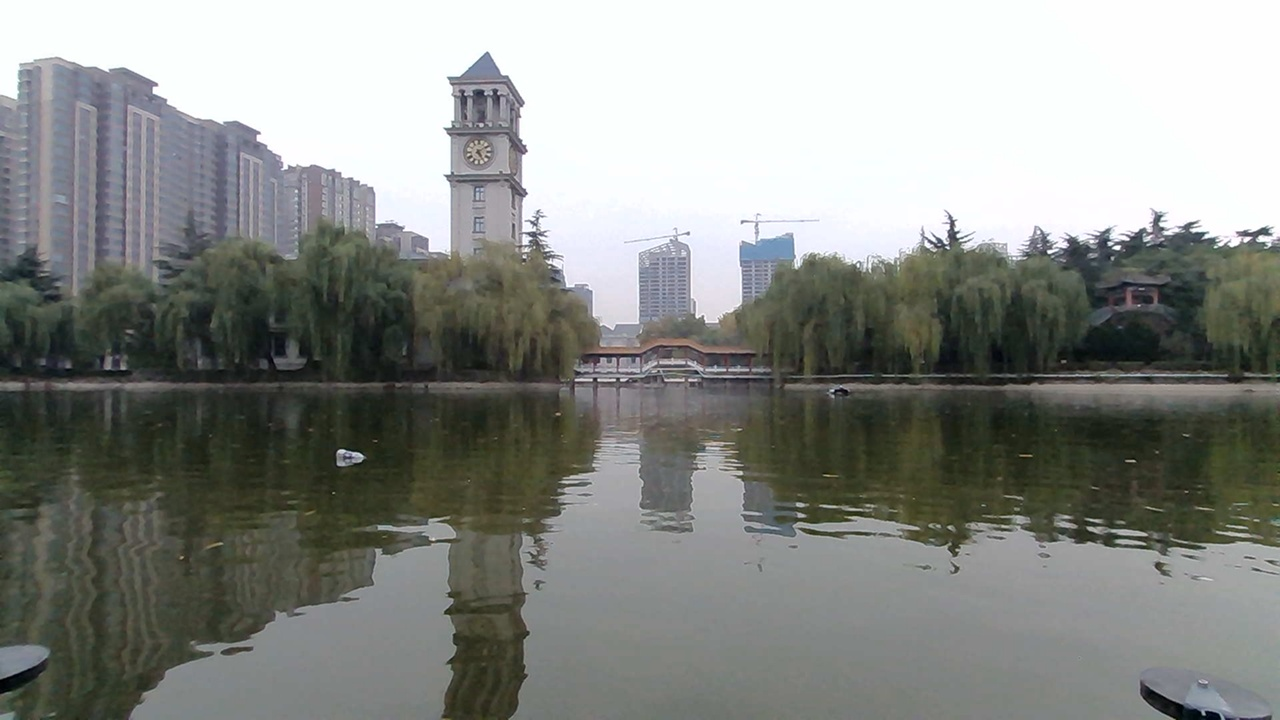bottle: (329, 435, 381, 473)
